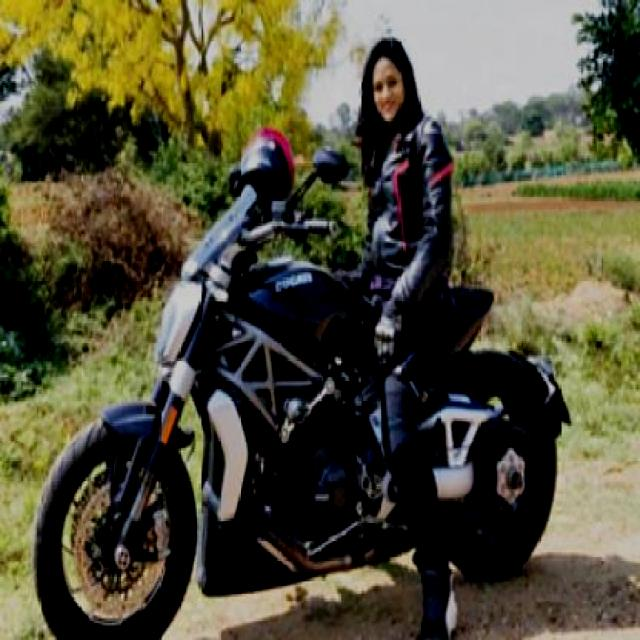Without Helmet: (358, 28, 418, 132)
